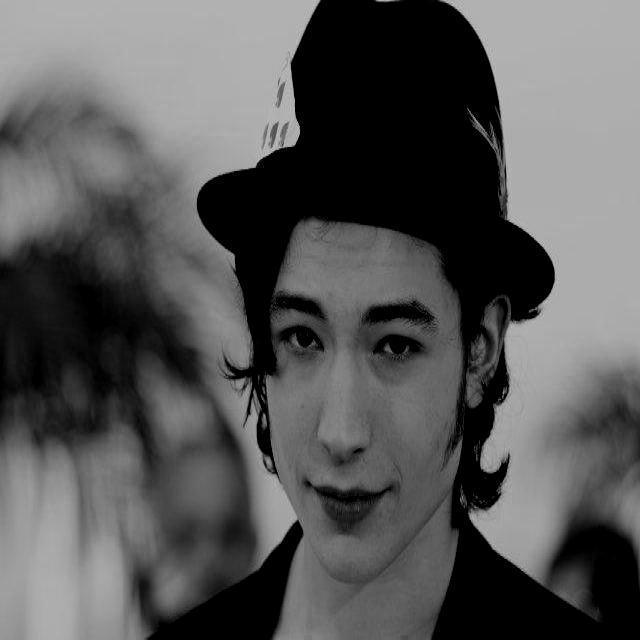real: (247, 209, 511, 600)
